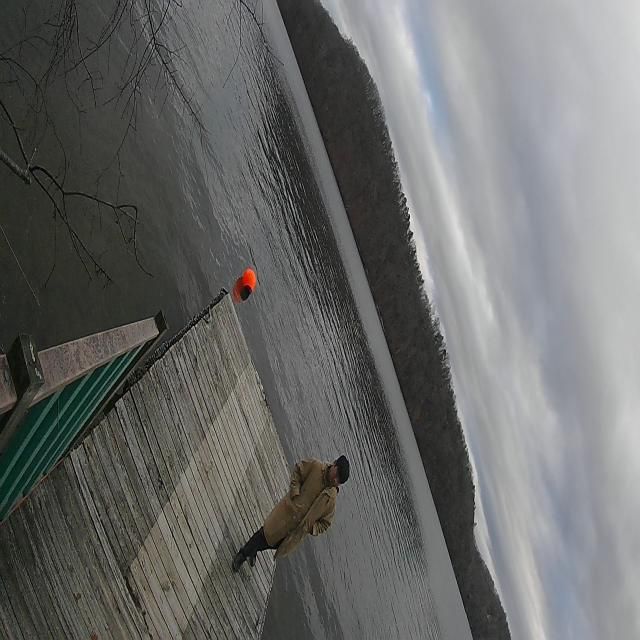Buoy: (241, 267, 257, 299)
